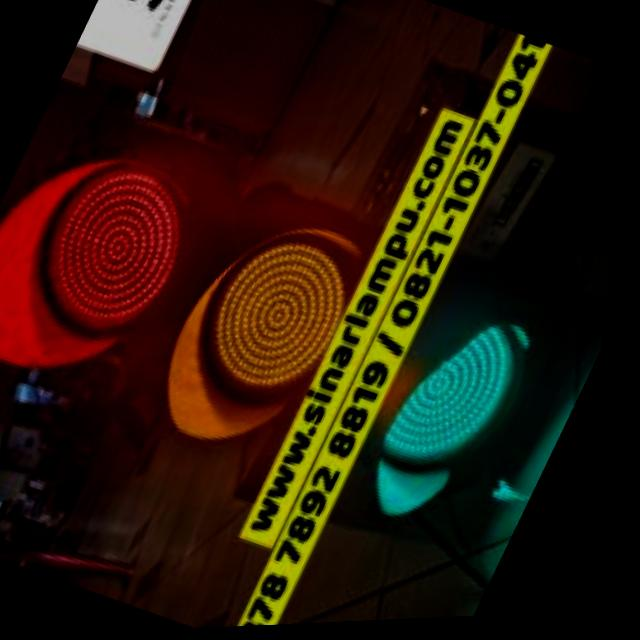Hijau: (379, 304, 546, 492)
Kuning: (195, 225, 379, 412)
Merah: (21, 149, 219, 348)
